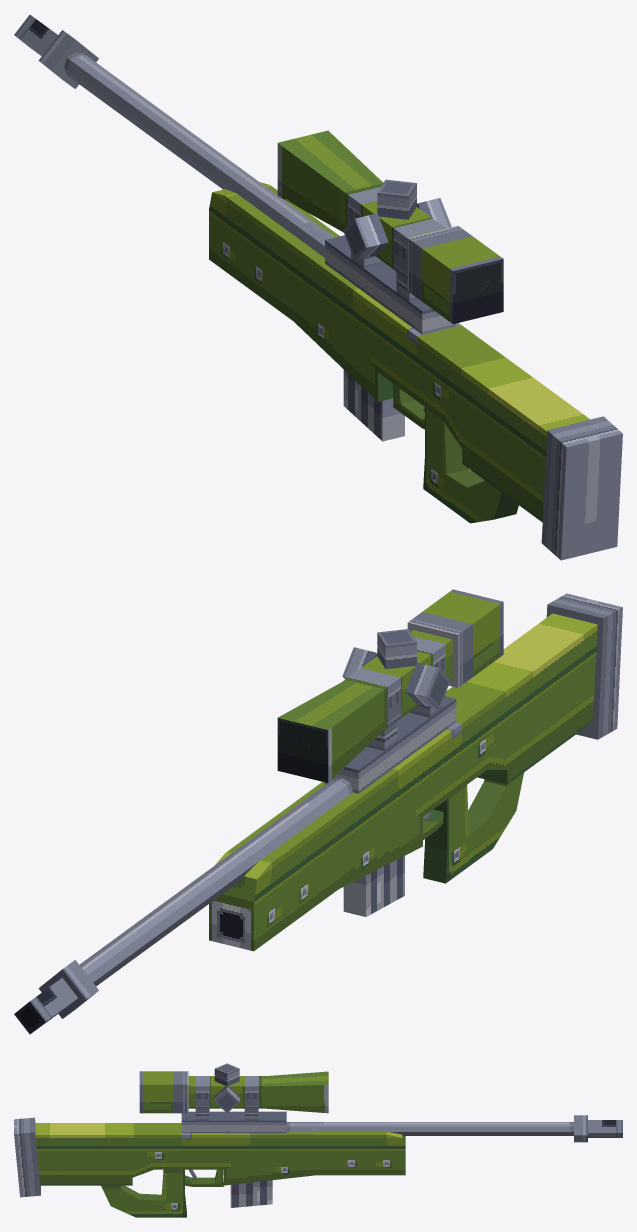
The model's file is awp.gltf.
The picture shows the model from 3 angles, top to bottom: view 1: azimuth 30°, elevation 25°; view 2: azimuth 150°, elevation 25°; view 3: azimuth 270°, elevation 25°; orthographic projection. The views are drawn at different scales.
Visible parts, largest first — view 1: cube (×16); view 2: cube (×15); view 3: cube (×16).
Part boxes in pixels (x1,y1,x2,y2): cube (×16): [14, 15, 622, 560]; cube (×15): [14, 589, 622, 1034]; cube (×16): [14, 1063, 622, 1217].
Size of the model in its own units: 0.4745 by 1.44 by 5.43.
1 material, 1 textured.
